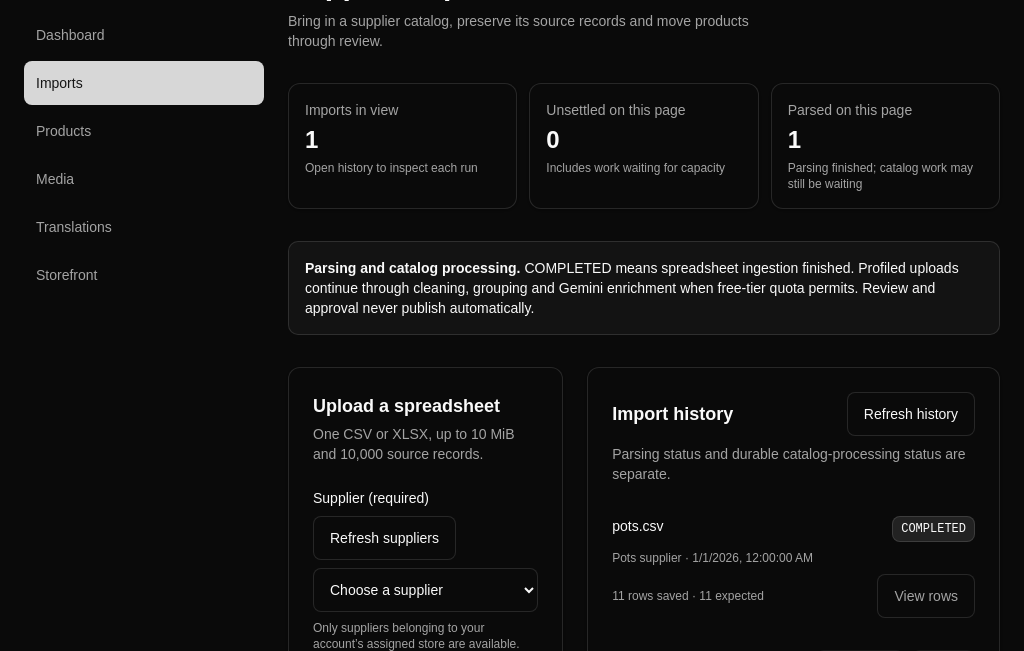
it: labels settled catalog processing independently of successful AI and merchant review
Click the button with aria-label "View pots.csv" at (926, 596), box [878, 574, 975, 618]
(page scrolled)
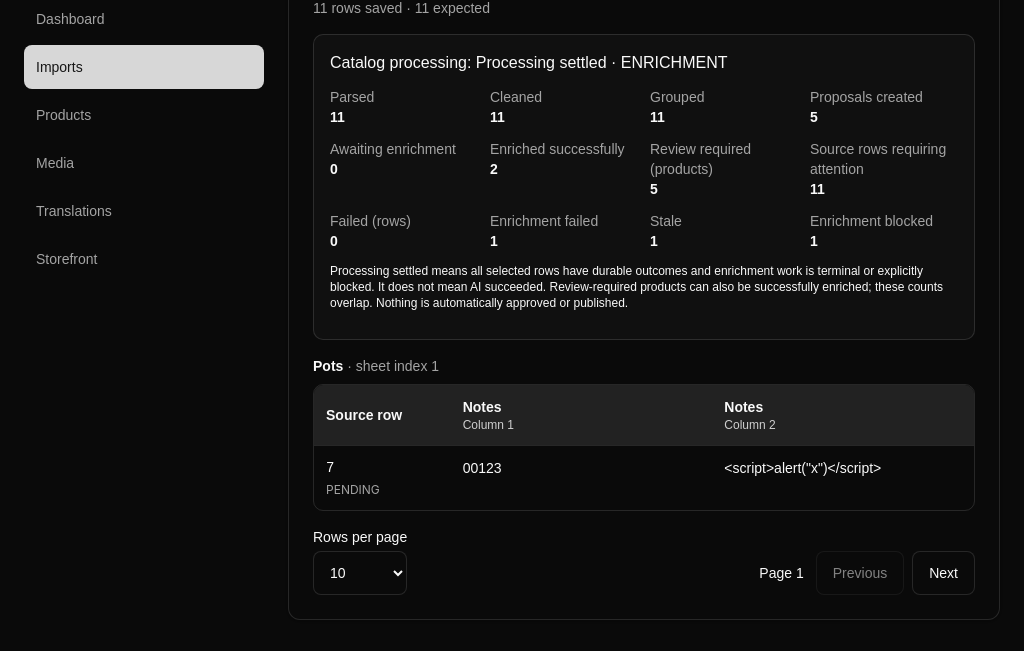
Check: the heading "Catalog processing: Processing settled · ENRICHMENT" is shown, box [330, 54, 728, 71]
Check: the text "2" is shown, box [490, 161, 498, 177]
Check: the text "1" below "Enrichment blocked" is shown, box [810, 233, 818, 249]
